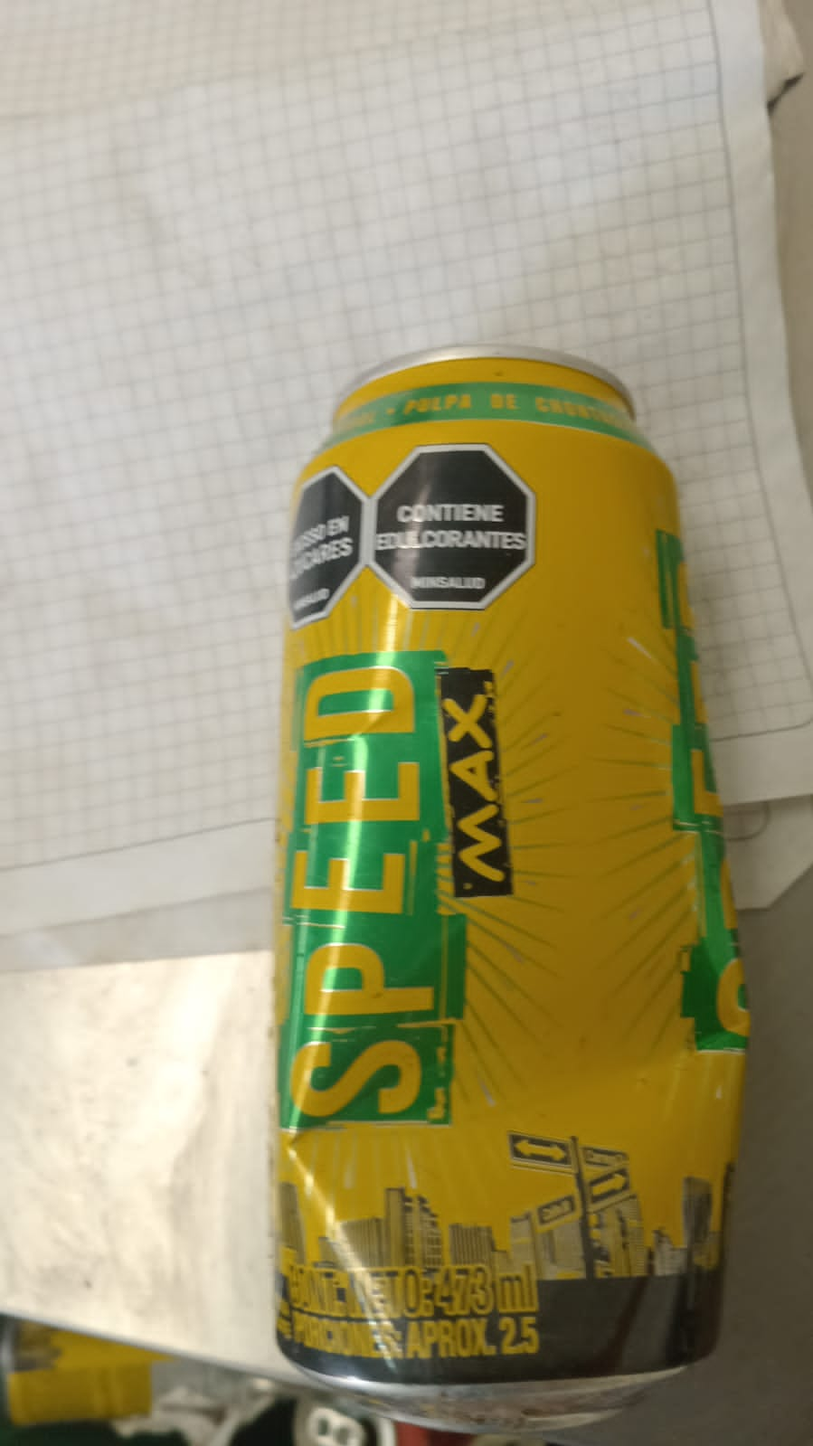Metal: (270, 343, 754, 1432)
